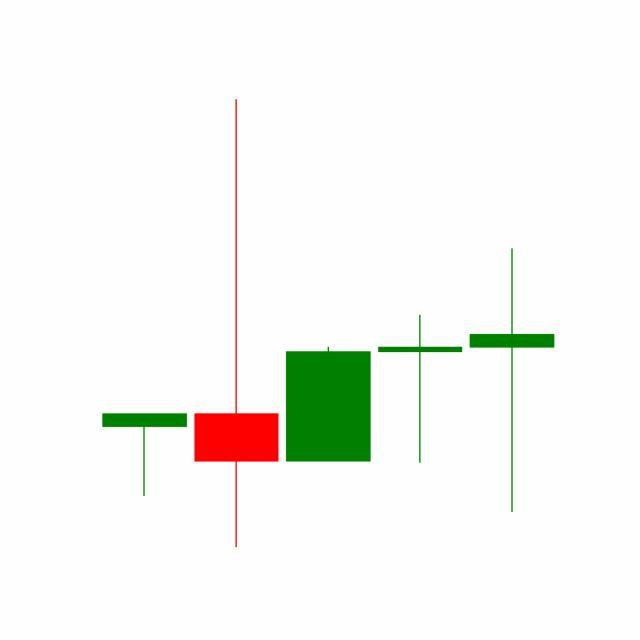Spinning Top: (466, 246, 559, 516)
